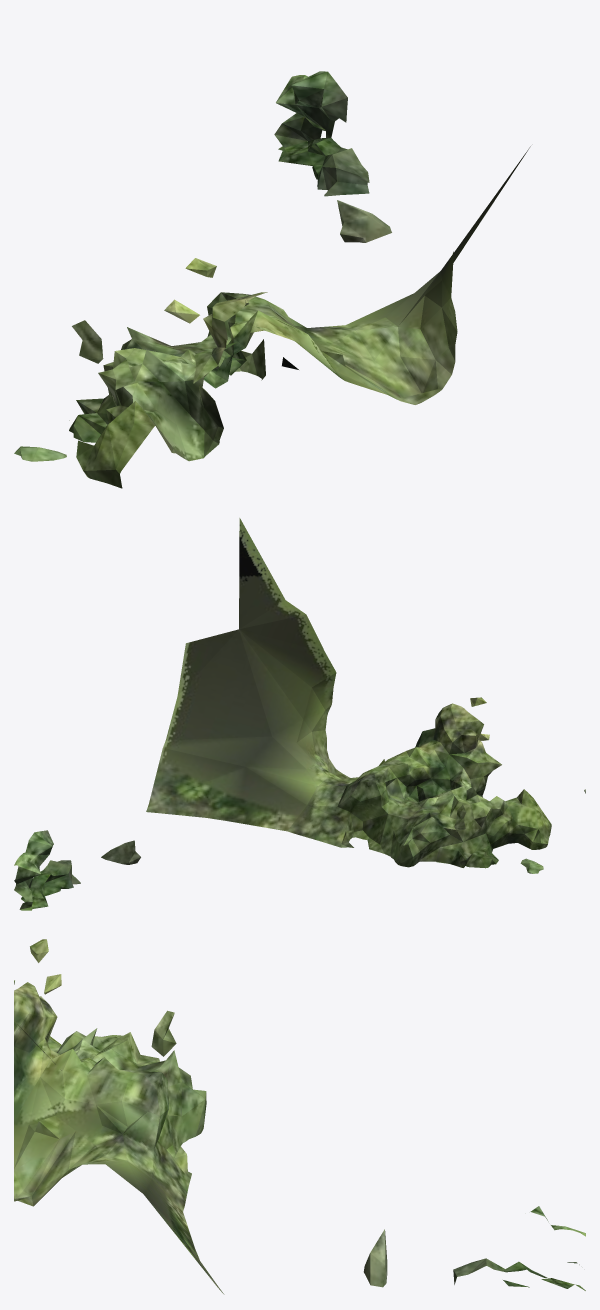
3 renders of one model, top to bottom at view 1: azimuth 30°, elevation 25°; view 2: azimuth 150°, elevation 25°; view 3: azimuth 270°, elevation 25°, orthographic. The views are drawn at different scales.
Bounding box in the file's own units: 52.22 × 33.33 × 52.22.
2 materials, 2 textured.
